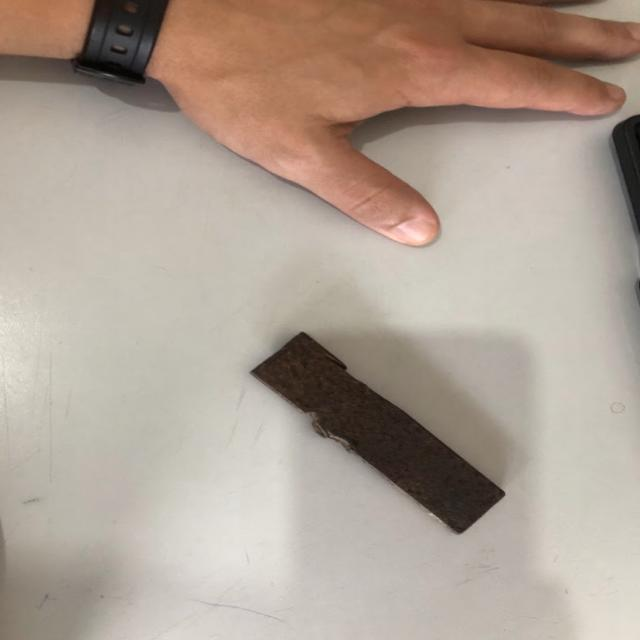Corrosion: (249, 330, 507, 537)
